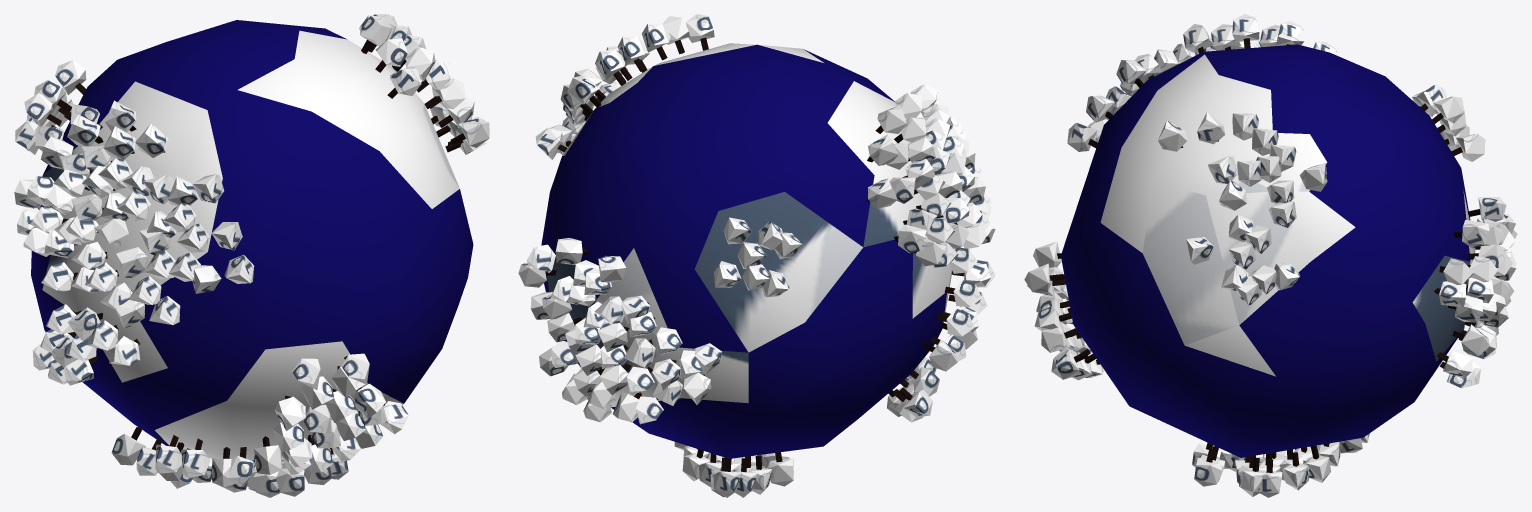
Rendered from Funny earth planet.FBX.
3 renders of one model, left to right at view 1: azimuth 30°, elevation 25°; view 2: azimuth 150°, elevation 25°; view 3: azimuth 270°, elevation 25°, orthographic. The views are drawn at different scales.
Parts seen in each view (by area): view 1: GeoSphere014; view 2: GeoSphere014; view 3: GeoSphere014.
Boxes of the visible parts, box(x1,y1,x2,y2) form: GeoSphere014: box(14, 14, 489, 497); GeoSphere014: box(518, 14, 995, 497); GeoSphere014: box(1024, 14, 1517, 497).
Size of the model in its own units: 233 by 221 by 238.
